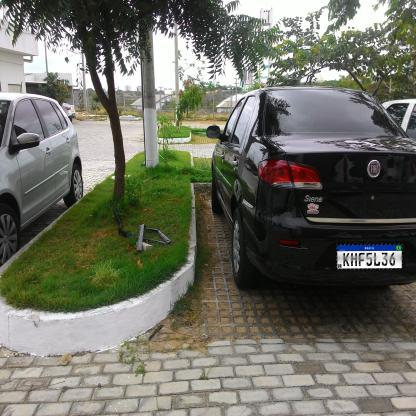PlacaM: (336, 243, 403, 270)
